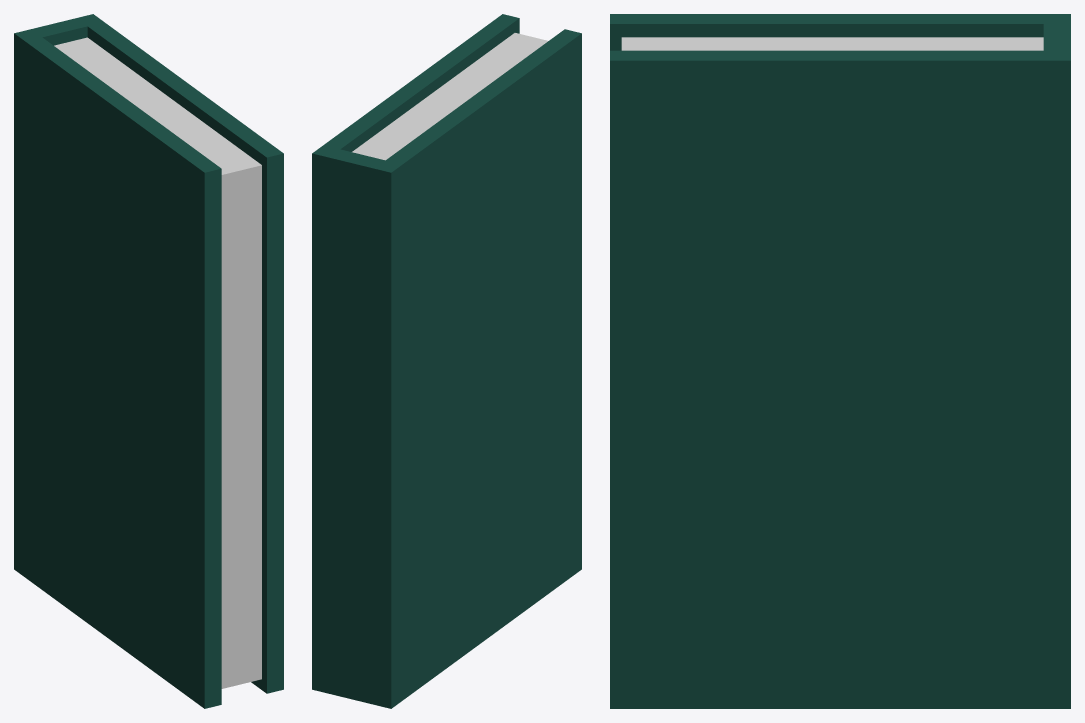
The model's file is Floor Book 7.fbx.
3 renders of one model, left to right at view 1: azimuth 30°, elevation 25°; view 2: azimuth 150°, elevation 25°; view 3: azimuth 270°, elevation 25°, orthographic. The views are drawn at different scales.
Parts seen in each view (by area): view 1: pCube3; view 2: pCube3; view 3: pCube3.
Boxes of the visible parts, box(x1,y1,x2,y2) form: pCube3: box(14, 14, 283, 708); pCube3: box(312, 14, 581, 708); pCube3: box(610, 14, 1070, 708).
Size of the model in its own units: 0.5253 by 3.4 by 2.19.
